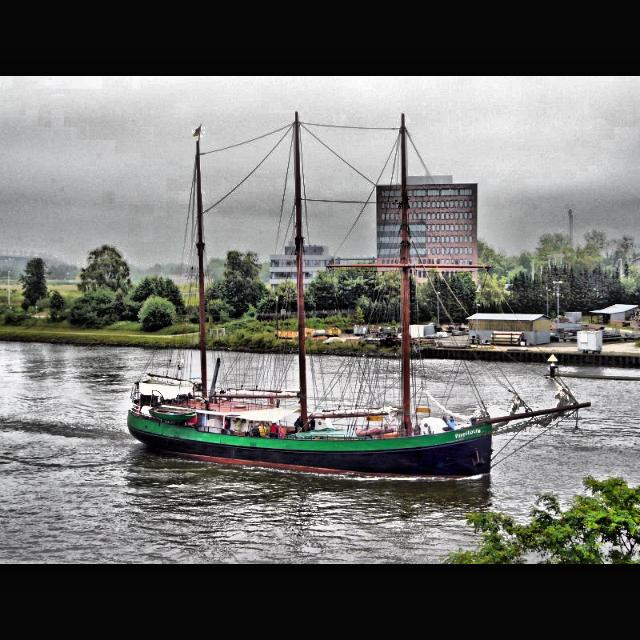sailing_vessel: (126, 111, 592, 479)
